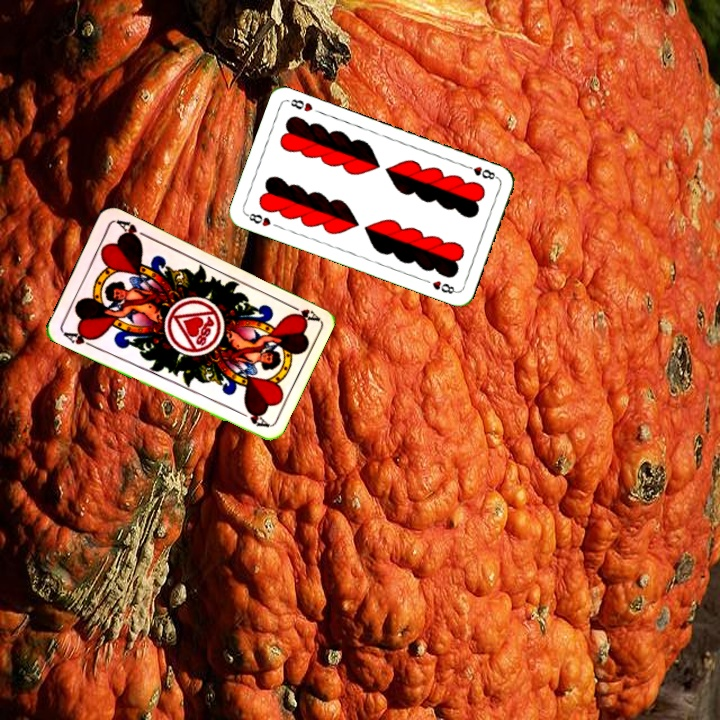H8: (461, 161, 500, 182), (242, 209, 274, 229)
HA: (59, 326, 99, 351), (282, 299, 321, 324)
